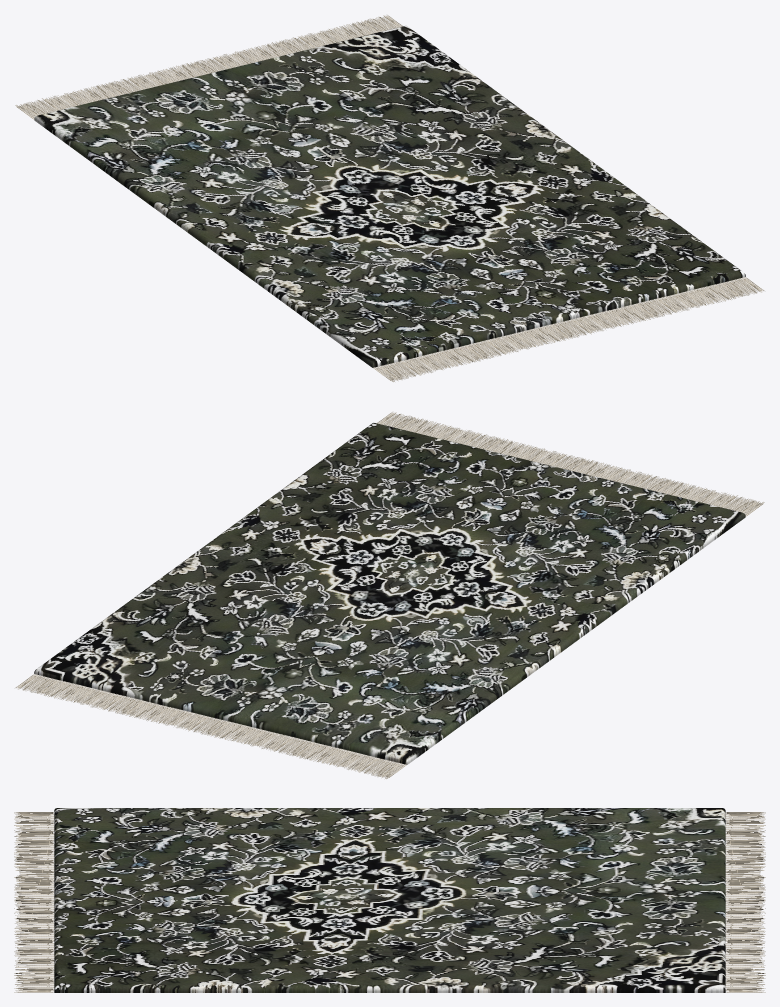
3 views of the same model, one above another, from view 1: azimuth 30°, elevation 25°; view 2: azimuth 150°, elevation 25°; view 3: azimuth 270°, elevation 25° (orthographic).
Parts seen in each view (by area): view 1: k02; view 2: k02; view 3: k02.
Part boxes in pixels (x1,y1,x2,y2): k02: [15, 15, 764, 381]; k02: [15, 412, 764, 778]; k02: [14, 808, 765, 992].
Bounding box in the file's own units: 0.7 × 0.0105 × 1.23.
3 materials, 2 textured.
